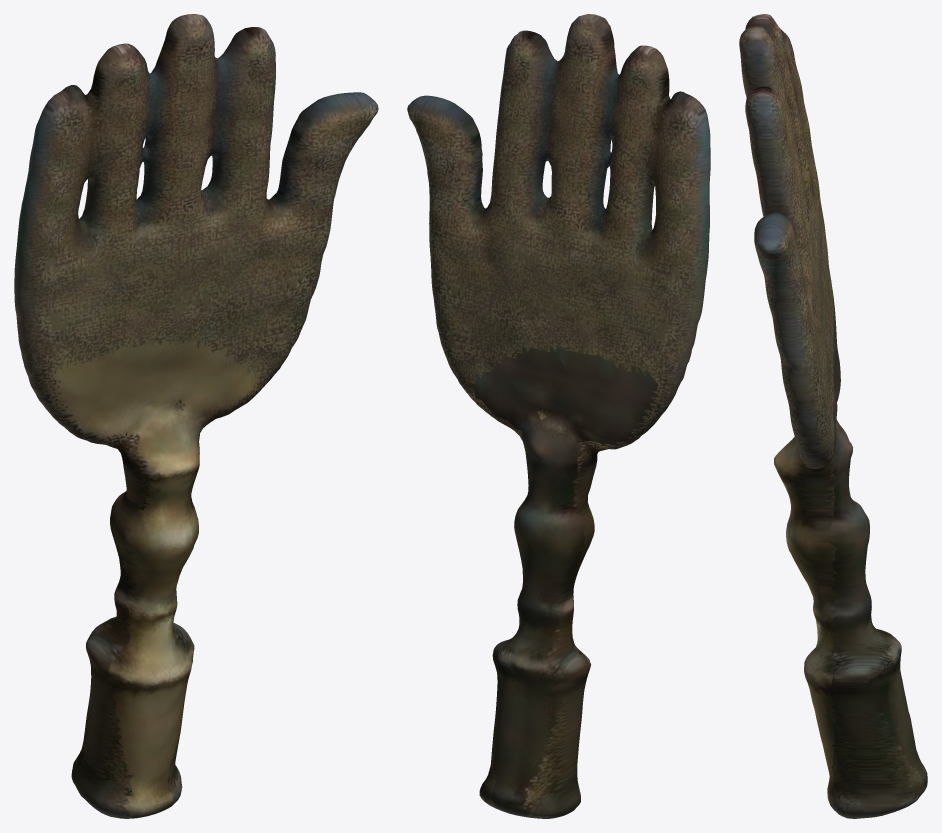
The model's file is kfl-2249.glb.
The picture shows the model from 3 angles, left to right: view 1: azimuth 30°, elevation 25°; view 2: azimuth 150°, elevation 25°; view 3: azimuth 270°, elevation 25°; orthographic projection. The views are drawn at different scales.
Visible parts, largest first — view 1: geometry_0; view 2: geometry_0; view 3: geometry_0.
Part boxes in pixels (x1,y1,x2,y2): geometry_0: (14,14,378,818); geometry_0: (407,14,710,818); geometry_0: (739,14,927,818).
Bounding box in the file's own units: 0.4268 × 0.9929 × 0.2176.
1 material, 1 textured.
